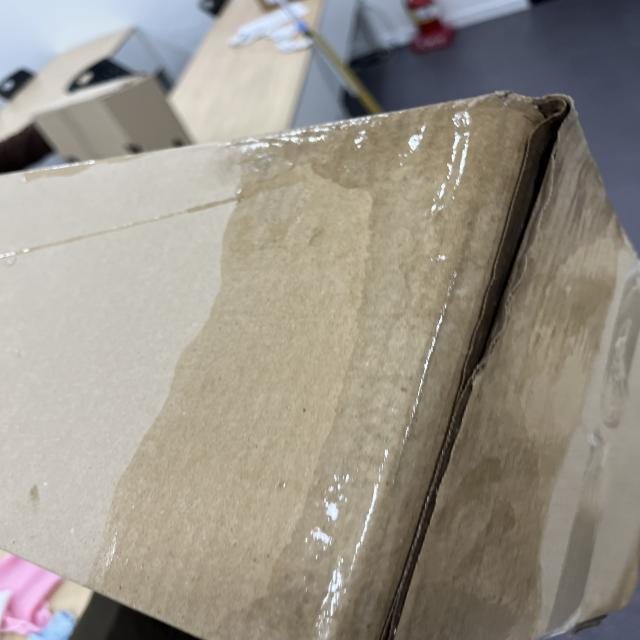wet: (92, 139, 627, 640)
